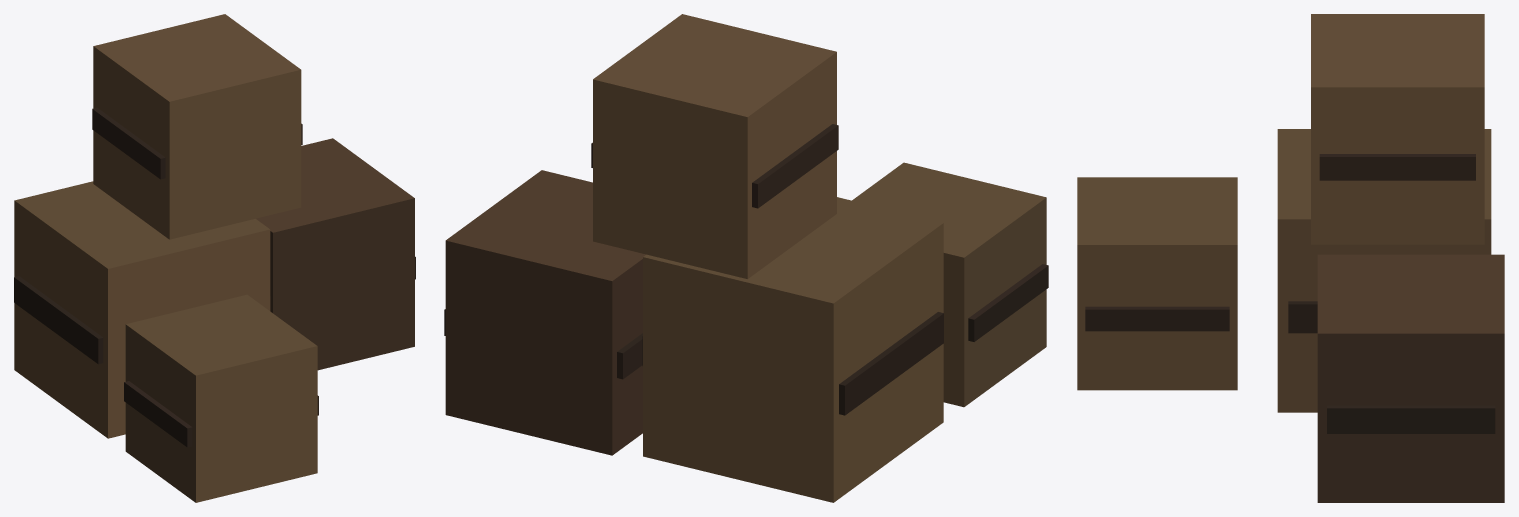
Rendered from walk_prop_crates.glb.
The picture shows the model from 3 angles, left to right: view 1: azimuth 30°, elevation 25°; view 2: azimuth 150°, elevation 25°; view 3: azimuth 270°, elevation 25°; orthographic projection. The views are drawn at different scales.
Parts seen in each view (by area): view 1: walk_prop_crates; view 2: walk_prop_crates; view 3: walk_prop_crates.
Boxes of the visible parts, x1=… form: walk_prop_crates: x1=14, y1=14, x2=415, y2=502; walk_prop_crates: x1=444, y1=14, x2=1048, y2=502; walk_prop_crates: x1=1077, y1=14, x2=1504, y2=502.
Size of the model in its own units: 1.65 by 1.45 by 1.6.
1 material, 1 textured.
